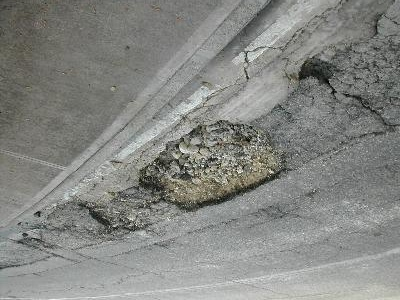pothole: (132, 117, 289, 217), (74, 198, 153, 235), (294, 55, 337, 86), (15, 227, 54, 251), (0, 257, 22, 273)
